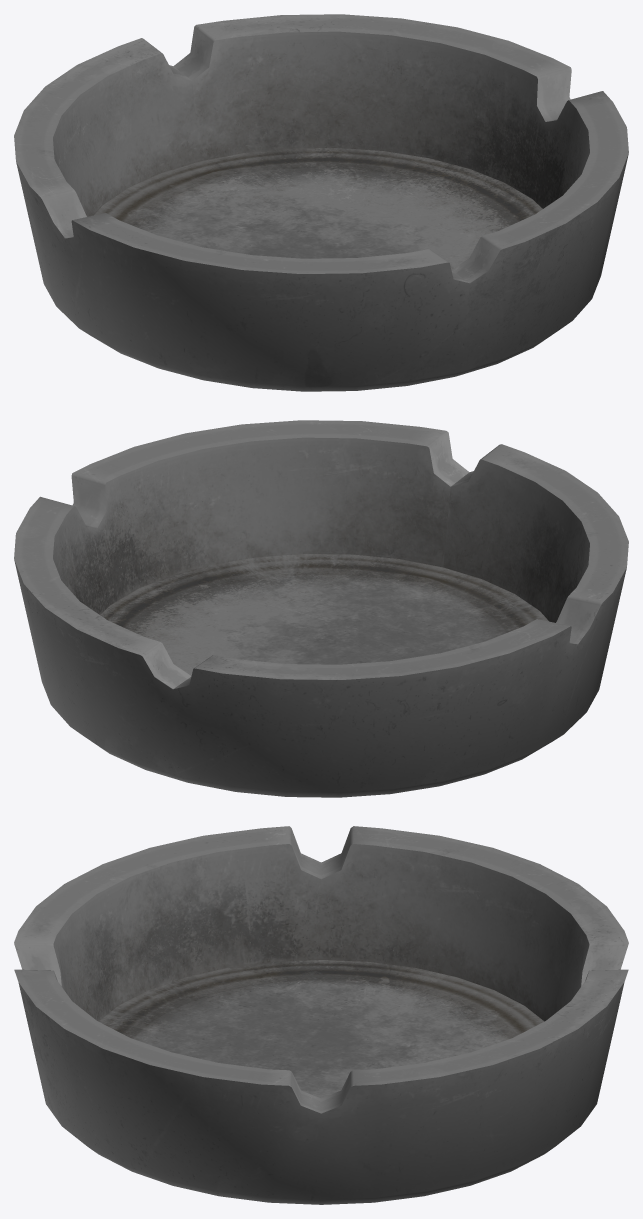
The model's file is SM_Ashtray_01.fbx.
The picture shows the model from 3 angles, top to bottom: view 1: azimuth 30°, elevation 25°; view 2: azimuth 150°, elevation 25°; view 3: azimuth 270°, elevation 25°; orthographic projection.
Visible parts, largest first — view 1: SM_Ashtray_01_LOD0; view 2: SM_Ashtray_01_LOD0; view 3: SM_Ashtray_01_LOD0.
Part boxes in pixels (x1,y1,x2,y2): SM_Ashtray_01_LOD0: (14,14,628,391); SM_Ashtray_01_LOD0: (14,420,628,797); SM_Ashtray_01_LOD0: (14,826,628,1204).
Bounding box in the file's own units: 12.21 × 12.22 × 2.98.
